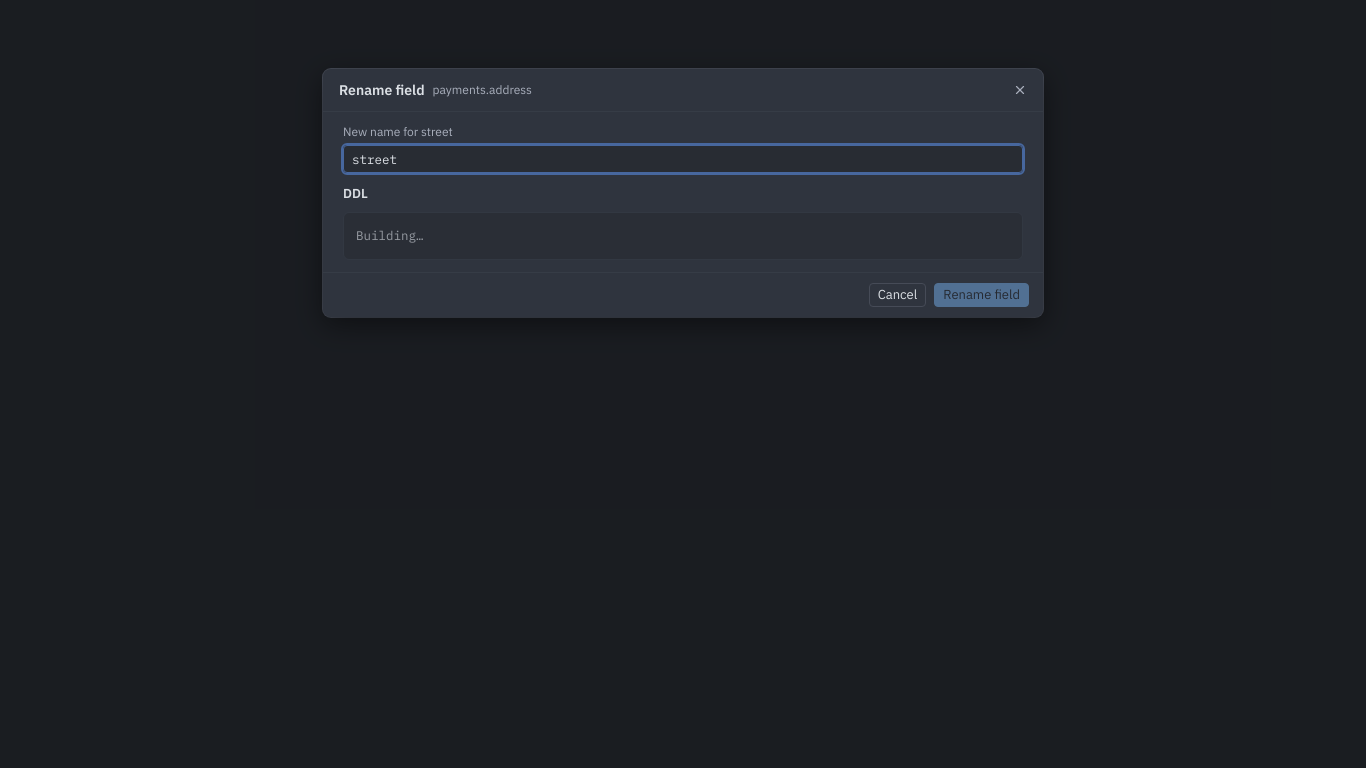
AlterFieldDialog › renames a field, with no type picker
The width and height of the screenshot is (1366, 768).
Replace the text in the field labelled "New name for street" with "road" at (683, 159), box 343,145 -> 1023,173
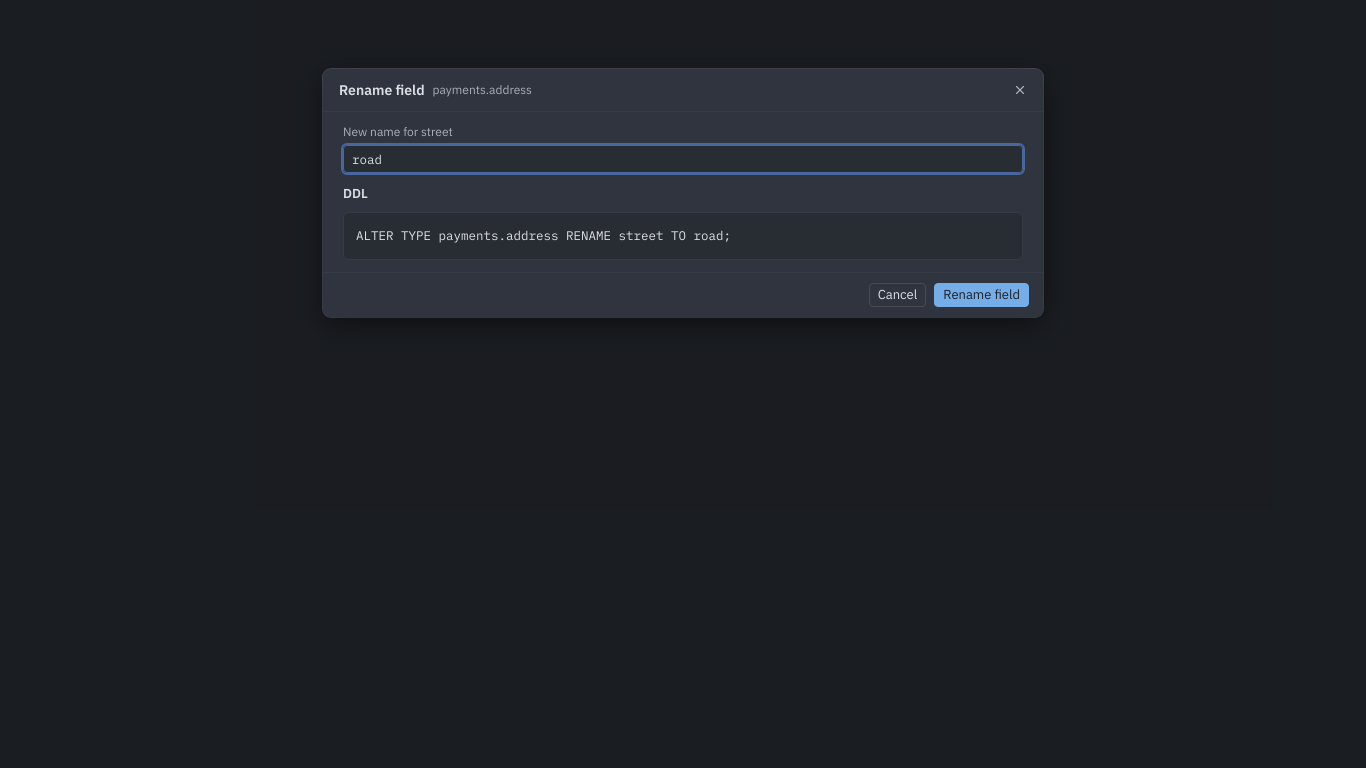
Check: the text "ALTER TYPE payments.address RENAME street TO road;" is shown, box 343,212 -> 1023,260
